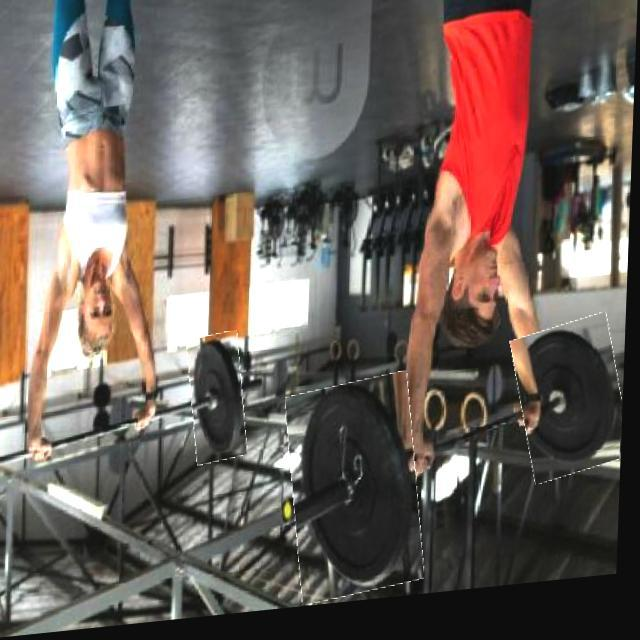barbell: (290, 382, 430, 611), (516, 330, 630, 496), (191, 336, 253, 471)
